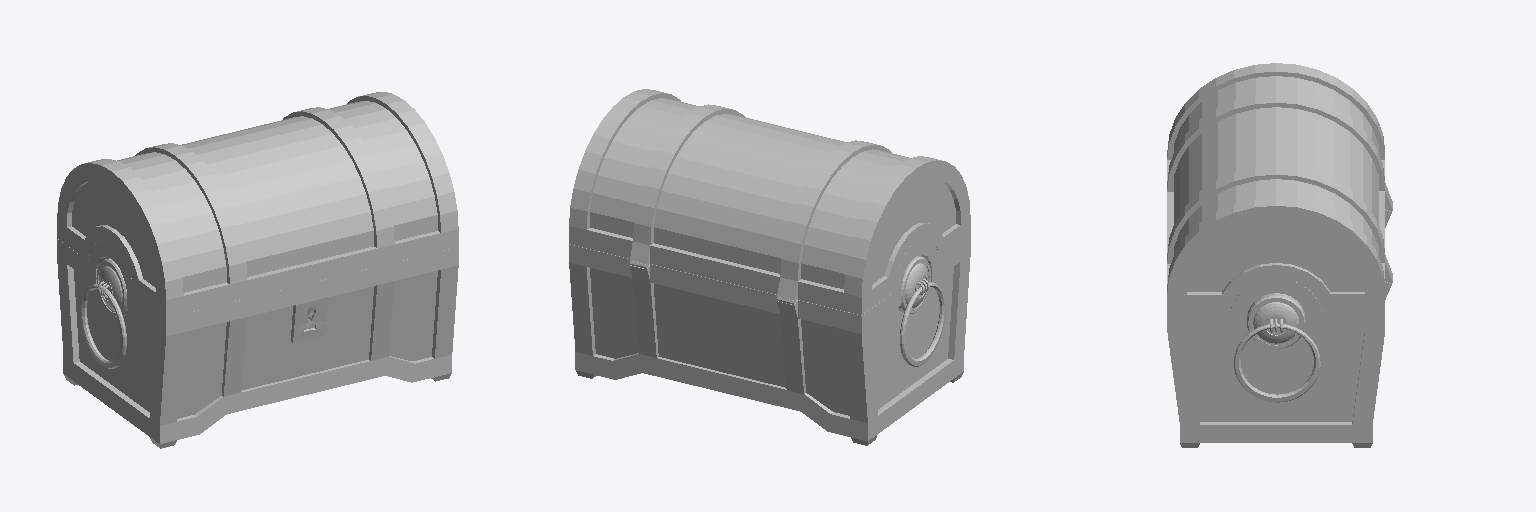
The model's file is Chest.obj.
3 renders of one model, left to right at view 1: azimuth 30°, elevation 25°; view 2: azimuth 150°, elevation 25°; view 3: azimuth 270°, elevation 25°, orthographic.
Visible parts, largest first — view 1: Chest_Top_Chest_Top, Chest_Base_Chest_Base; view 2: Chest_Top_Chest_Top, Chest_Base_Chest_Base; view 3: Chest_Top_Chest_Top, Chest_Base_Chest_Base.
Part boxes in pixels (left/top/right/bottom): Chest_Top_Chest_Top: left=57, top=92, right=458, bottom=317; Chest_Base_Chest_Base: left=57, top=239, right=458, bottom=448; Chest_Top_Chest_Top: left=569, top=89, right=970, bottom=314; Chest_Base_Chest_Base: left=569, top=236, right=970, bottom=445; Chest_Top_Chest_Top: left=1167, top=63, right=1392, bottom=312; Chest_Base_Chest_Base: left=1167, top=201, right=1392, bottom=447.
Size of the model in its own units: 359 by 265 by 223.